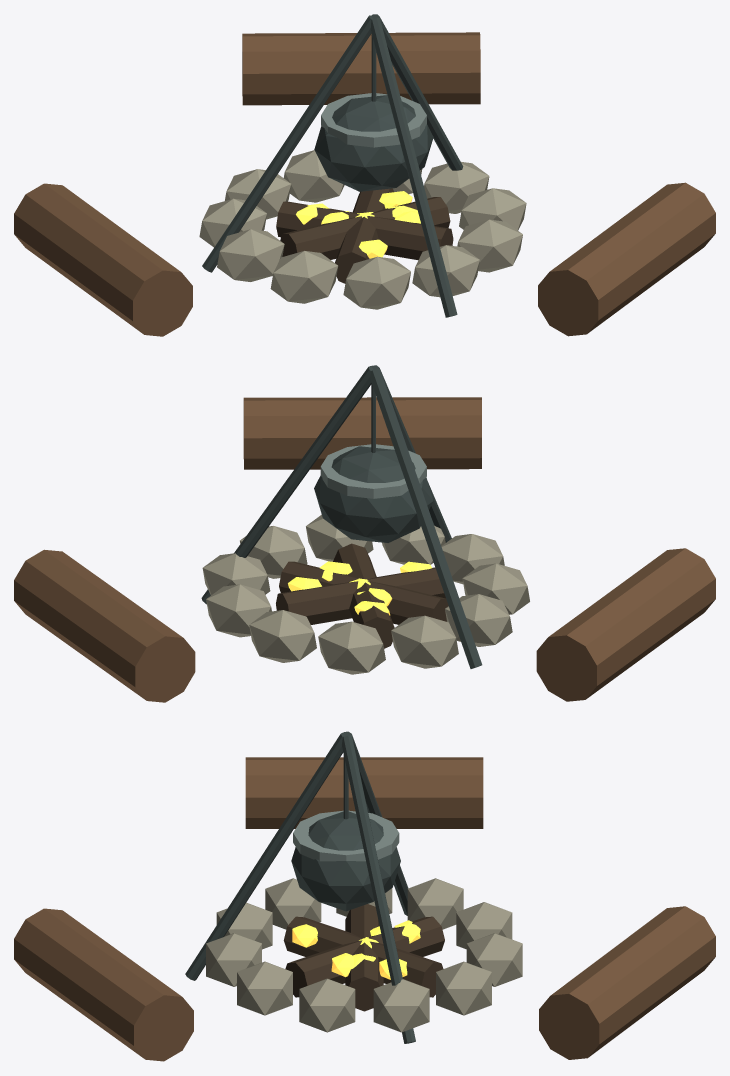
File: Camp_Firepit.fbx
3 views of the same model, one above another, from view 1: azimuth 30°, elevation 25°; view 2: azimuth 150°, elevation 25°; view 3: azimuth 270°, elevation 25° (orthographic).
Parts seen in each view (by area): view 1: Camp_Firepit_Export; view 2: Camp_Firepit_Export; view 3: Camp_Firepit_Export.
Boxes of the visible parts, x1,y1,x2,y2 form: Camp_Firepit_Export: (14, 14, 715, 336); Camp_Firepit_Export: (14, 365, 715, 702); Camp_Firepit_Export: (14, 731, 715, 1061).
Size of the model in its own units: 3.33 by 1.49 by 3.84.
